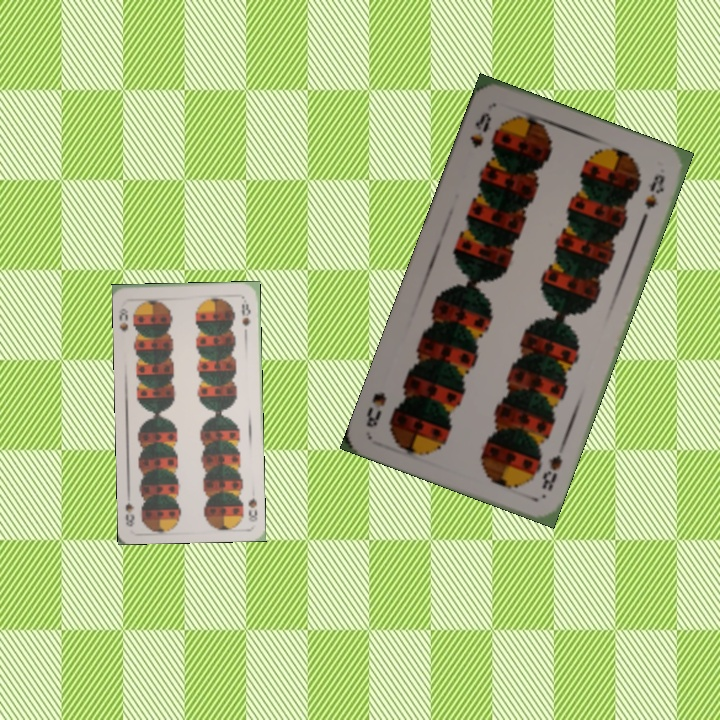S8: (466, 108, 494, 151), (538, 450, 565, 494), (115, 304, 130, 334), (245, 494, 260, 524)
